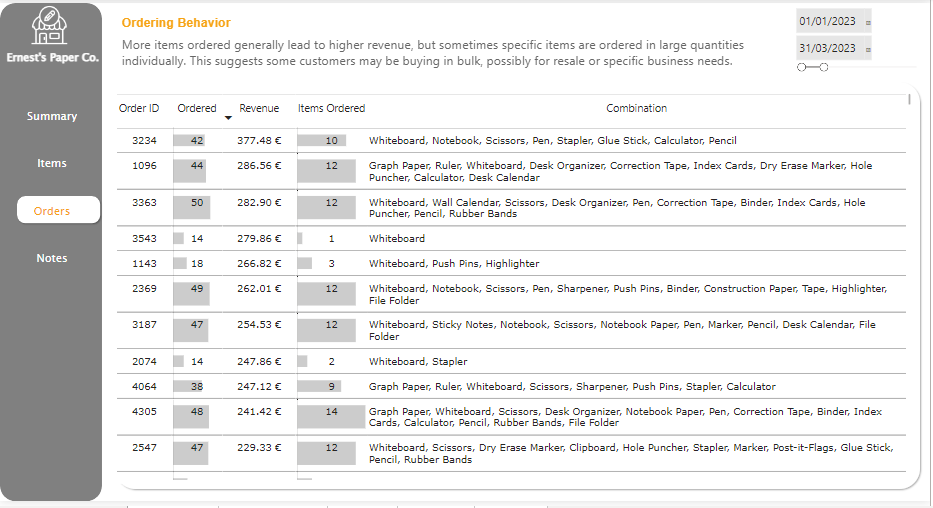

The dashboard page shown, as its layout file describes it:
{"tool":"powerbi","page":{"name":"Orders","canvas":[2800,1500],"ordinal":3},"visuals":[{"type":"image","box":[78,0,146.2,133.2],"z":0,"group":"g2"},{"type":"shape","box":[337.2,228.8,2441.7,1243.4],"z":0},{"type":"shape","box":[0,0,307.1,1500],"z":1000},{"type":"textbox","box":[16.3,136.4,298.8,100.7],"z":1000,"group":"g2"},{"type":"tableEx","fields":{"Values":["public order_details.order_id","Measures (2).Ordered","Measures (2).Revenue","CountNonNull(public order_details.order_id)","order_combination.combination"]},"box":[337.2,258.9,2417.6,1189.2],"z":2000},{"type":"shape","box":[41.4,572.8,268.7,100.4],"z":2000,"group":"g1"},{"type":"slicer","fields":{"Values":["CalenderDim.Date"]},"box":[2384.5,6,397.4,222.8],"z":3000},{"type":"textbox","box":[361.3,33.1,1999.1,225.8],"z":4000},{"type":"group","id":"g1","title":"Group 2","box":[14.8,0,300.3,817.9],"z":5000},{"type":"actionButton","box":[14.8,292.3,283.5,97.4],"z":6000,"group":"g1"},{"type":"actionButton","box":[14.8,435,283.5,97.4],"z":7000,"group":"g1"},{"type":"actionButton","box":[14.8,577.8,283.5,97.4],"z":8000,"group":"g1"},{"type":"actionButton","box":[14.8,720.5,283.5,97.4],"z":9000,"group":"g1"},{"type":"group","id":"g2","title":"Group 1","box":[16.3,0,298.8,237.1],"z":10002,"group":"g1"}]}

Visuals, with their boxes in screenshot pixels (x1, y1, x2, y2), scaled from the page's 2800x1500 canvas onto the 933x508 screenshot:
image: select_region(26, 0, 75, 45)
shape: select_region(112, 77, 926, 499)
shape: select_region(0, 0, 102, 507)
textbox: select_region(5, 46, 105, 80)
tableEx - public order_details.order_id x Measures (2).Ordered: select_region(112, 88, 918, 490)
shape: select_region(14, 194, 103, 228)
slicer - CalenderDim.Date: select_region(795, 2, 927, 77)
textbox: select_region(120, 11, 787, 88)
"Group 2" group: select_region(5, 0, 105, 277)
actionButton: select_region(5, 99, 99, 132)
actionButton: select_region(5, 147, 99, 180)
actionButton: select_region(5, 196, 99, 229)
actionButton: select_region(5, 244, 99, 277)
"Group 1" group: select_region(5, 0, 105, 80)
